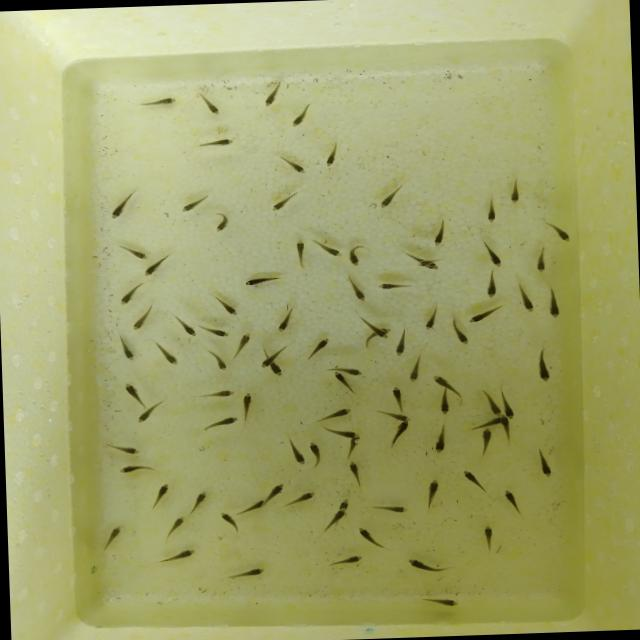fingerling: (530, 346, 557, 384), (106, 192, 136, 225), (375, 182, 407, 212), (544, 218, 580, 244), (157, 546, 195, 570), (193, 87, 222, 116), (284, 102, 312, 132), (530, 448, 558, 478), (95, 524, 122, 554), (264, 192, 296, 217), (241, 268, 281, 288), (358, 524, 384, 554), (140, 94, 182, 112), (197, 416, 239, 434), (311, 406, 353, 424), (260, 78, 282, 112), (414, 592, 458, 609), (118, 380, 146, 406), (504, 173, 526, 206), (406, 555, 444, 574), (179, 190, 209, 214), (306, 336, 330, 364), (147, 481, 171, 509), (359, 316, 388, 339), (320, 142, 345, 168), (424, 476, 442, 512), (464, 306, 499, 324), (212, 208, 236, 234), (429, 216, 449, 247), (432, 422, 452, 453), (194, 136, 238, 150), (286, 438, 308, 466), (404, 355, 425, 384), (369, 408, 412, 422), (480, 196, 500, 226), (430, 370, 460, 390), (315, 237, 343, 258), (284, 154, 308, 178), (156, 342, 180, 366), (104, 438, 140, 454), (323, 425, 358, 441), (226, 564, 266, 578), (289, 489, 320, 507), (140, 256, 167, 276), (120, 463, 156, 478), (348, 278, 368, 304), (306, 438, 324, 466), (503, 486, 521, 514), (344, 460, 360, 491), (480, 274, 499, 300), (266, 482, 288, 504), (462, 468, 484, 490), (392, 329, 408, 359), (518, 288, 536, 314), (180, 316, 200, 339), (165, 516, 184, 540), (546, 290, 561, 320), (135, 404, 160, 422), (119, 244, 147, 260), (479, 524, 495, 552), (436, 392, 453, 418), (116, 288, 138, 308), (216, 298, 238, 318), (368, 504, 408, 515), (238, 498, 265, 514), (389, 380, 403, 410), (328, 365, 366, 376), (346, 241, 362, 267), (211, 348, 227, 374), (202, 386, 236, 398), (235, 330, 250, 357), (486, 391, 502, 416), (190, 492, 208, 514), (488, 242, 502, 270), (275, 310, 291, 334), (128, 314, 152, 330), (451, 328, 472, 346), (293, 239, 307, 266), (118, 339, 134, 362), (500, 394, 514, 420), (376, 280, 412, 290), (332, 554, 362, 566), (422, 310, 438, 332), (206, 324, 231, 338), (394, 421, 408, 446), (218, 510, 238, 527), (328, 508, 345, 528), (479, 428, 492, 453), (344, 436, 360, 454), (533, 252, 546, 274), (241, 391, 252, 417), (500, 414, 510, 441), (332, 370, 346, 389), (474, 417, 501, 426), (416, 258, 439, 268), (268, 363, 284, 376), (260, 354, 274, 368), (338, 498, 352, 510)
